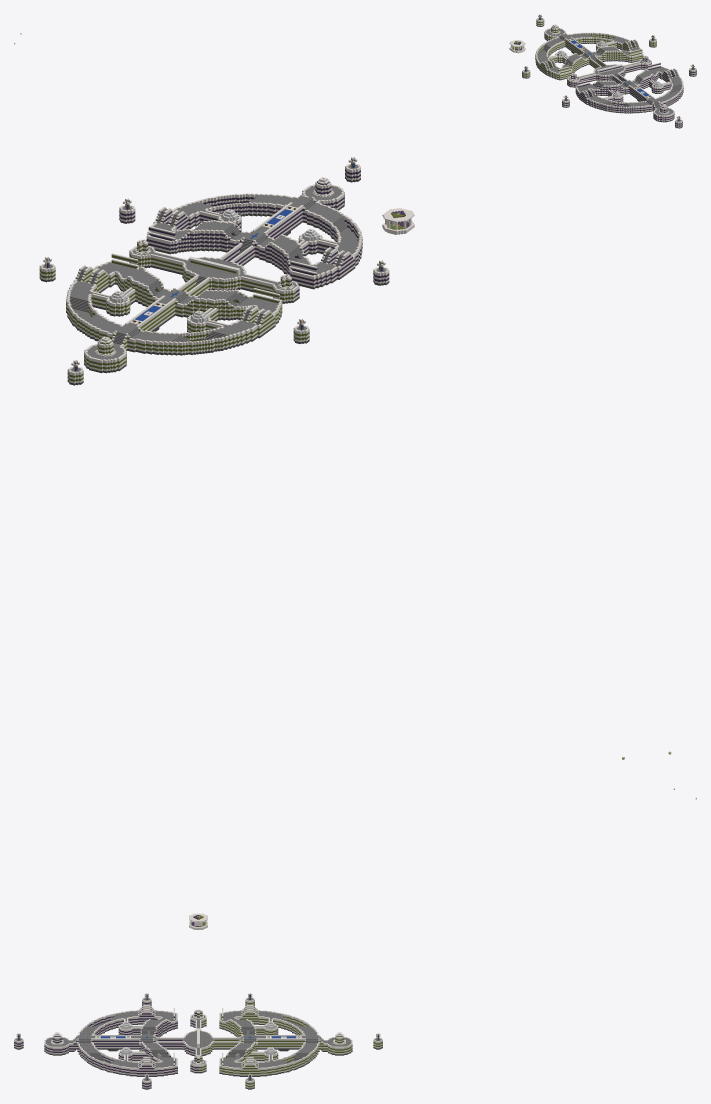
The model's file is minecraft.obj.
The picture shows the model from 3 angles, top to bottom: view 1: azimuth 30°, elevation 25°; view 2: azimuth 150°, elevation 25°; view 3: azimuth 270°, elevation 25°; orthographic projection. The views are drawn at different scales.
Size of the model in its own units: 520 by 60.5 by 496.
